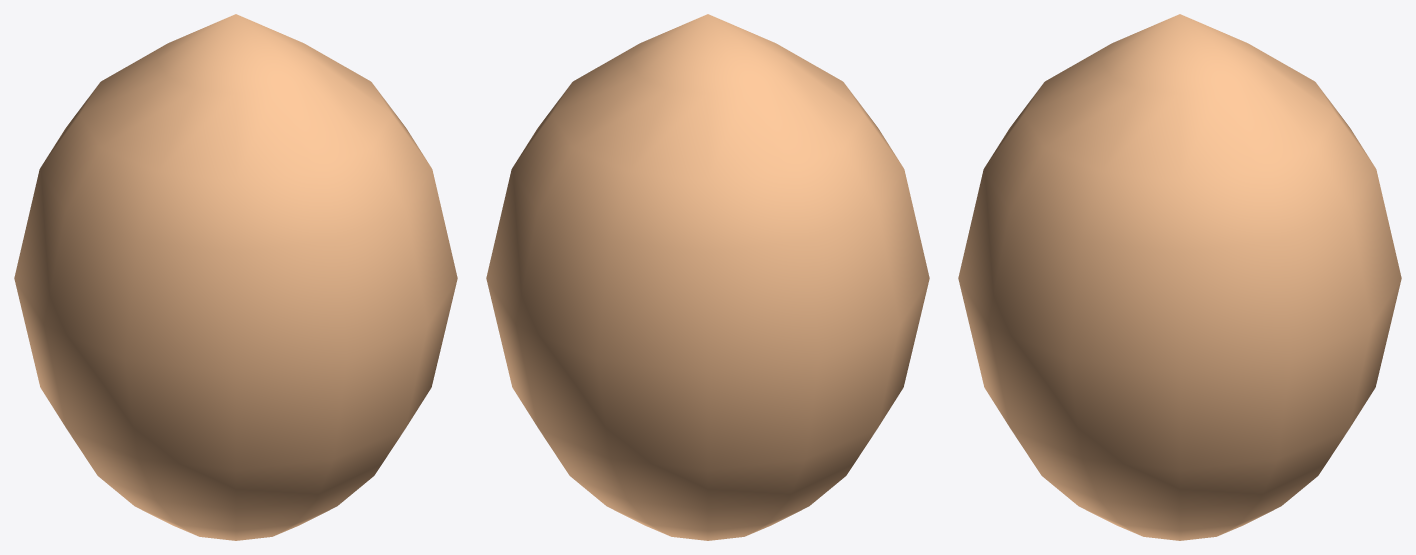
The model's file is cocofechado.fbx.
3 renders of one model, left to right at view 1: azimuth 30°, elevation 25°; view 2: azimuth 150°, elevation 25°; view 3: azimuth 270°, elevation 25°, orthographic.
Visible parts, largest first — view 1: cocofechado; view 2: cocofechado; view 3: cocofechado.
Boxes of the visible parts, box(x1,y1,x2,y2) form: cocofechado: box(14, 14, 457, 540); cocofechado: box(486, 14, 929, 540); cocofechado: box(958, 14, 1401, 540).
Size of the model in its own units: 11.87 by 14.66 by 11.87.
